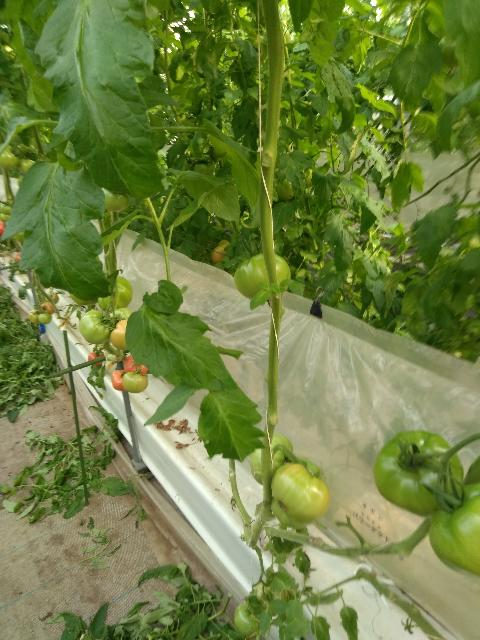b_green: (374, 430, 464, 518), (428, 482, 479, 580), (271, 464, 330, 524), (234, 253, 291, 301), (251, 434, 293, 485), (272, 496, 313, 529), (98, 276, 132, 312), (79, 310, 110, 345), (234, 602, 260, 636), (102, 189, 130, 213), (123, 372, 148, 393), (109, 308, 133, 328), (39, 312, 53, 325)
b_half_ripened: (110, 319, 128, 350), (125, 355, 148, 376), (111, 370, 127, 391), (87, 351, 105, 366), (29, 309, 43, 323), (41, 302, 54, 314)
